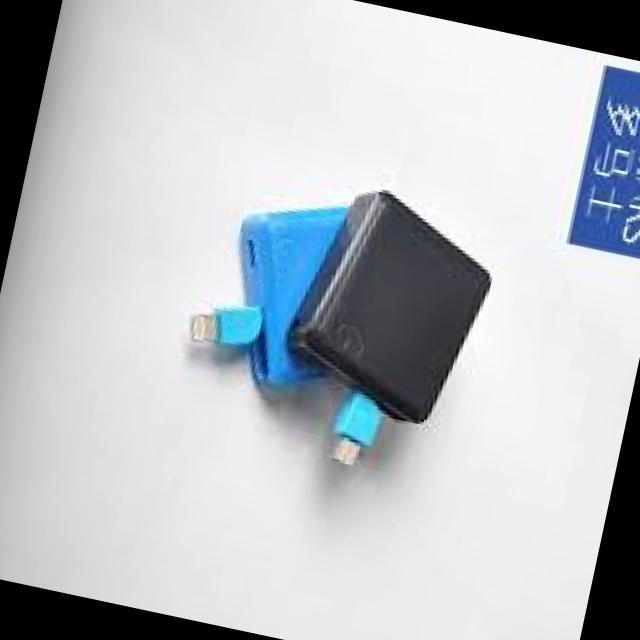power_bank: (262, 172, 508, 488), (179, 165, 388, 406)
